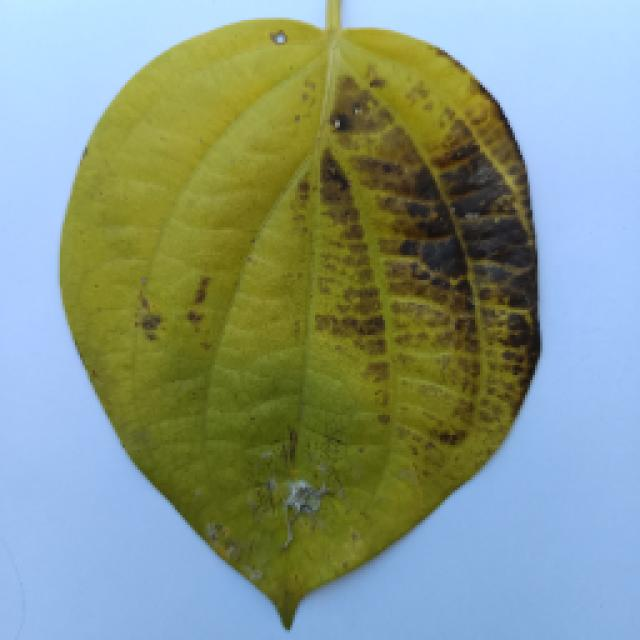slow-decline: (32, 28, 562, 638)
